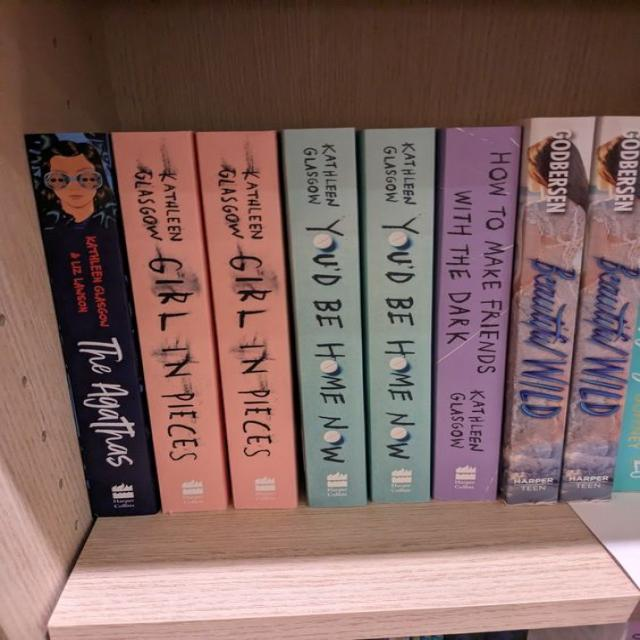book: (26, 134, 158, 517), (112, 132, 228, 511), (197, 131, 297, 509), (503, 117, 592, 503), (431, 127, 517, 500), (283, 130, 367, 506), (561, 118, 639, 499), (361, 129, 435, 500)
